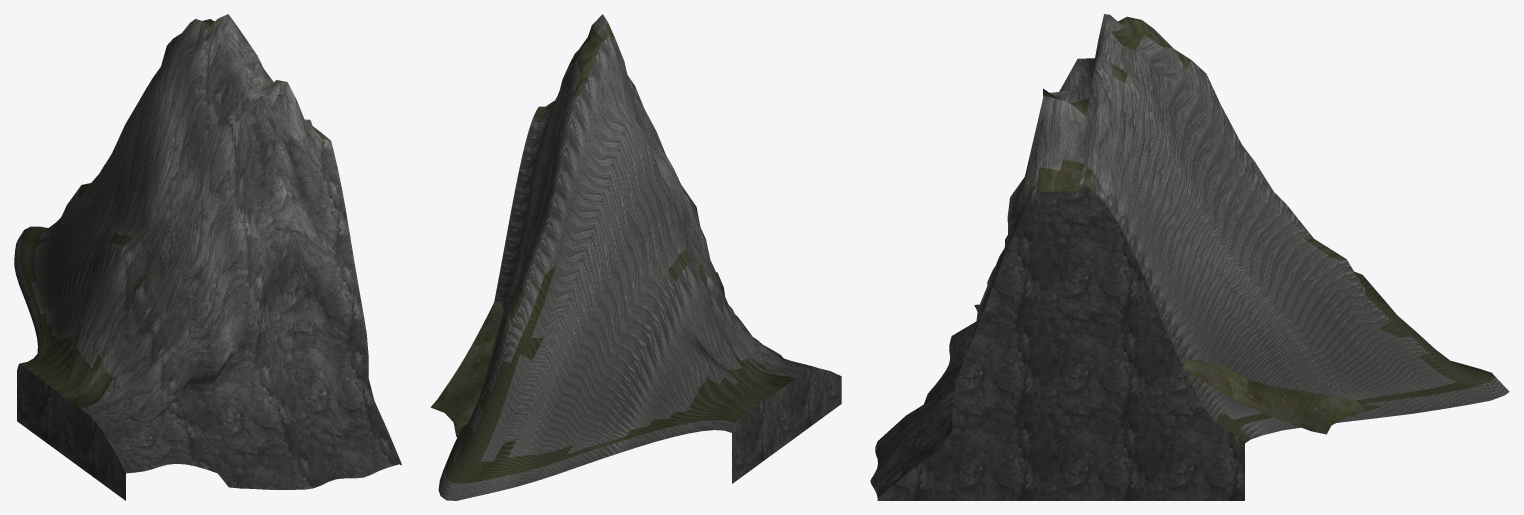
Rendered from seacliff_endcap_left_h5_a_v5_summer.glb.
3 renders of one model, left to right at view 1: azimuth 30°, elevation 25°; view 2: azimuth 150°, elevation 25°; view 3: azimuth 270°, elevation 25°, orthographic. The views are drawn at different scales.
Parts seen in each view (by area): view 1: seacliff_endcap_left_h5_a; view 2: seacliff_endcap_left_h5_a; view 3: seacliff_endcap_left_h5_a.
Part boxes in pixels (x1,y1,x2,y2): seacliff_endcap_left_h5_a: [14, 14, 401, 500]; seacliff_endcap_left_h5_a: [430, 14, 841, 500]; seacliff_endcap_left_h5_a: [870, 14, 1509, 500].
Bounding box in the file's own units: 6 × 9.35 × 12.12.
Materials: 2 (2 with a texture image).
